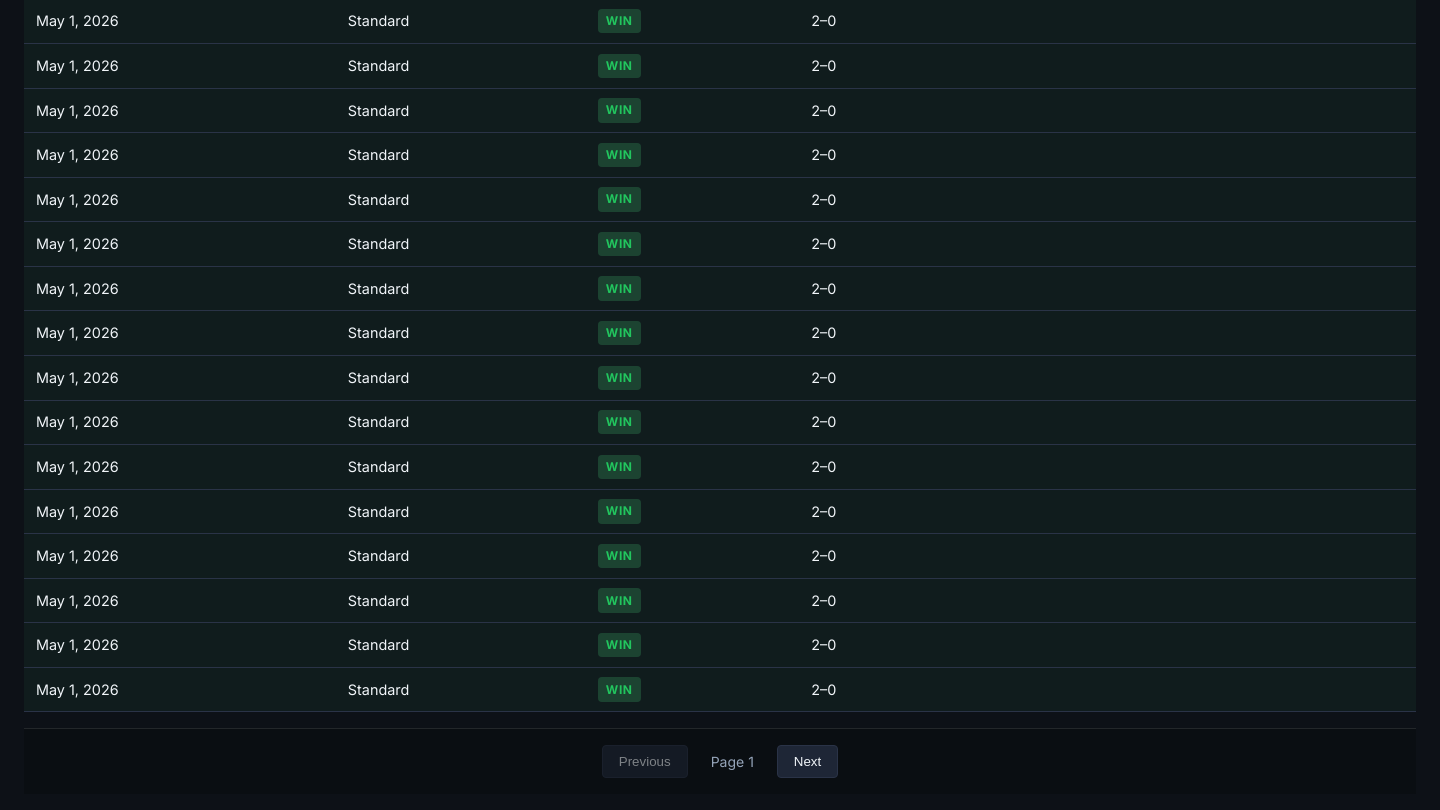
Test: BffMatchHistory › Cursor-based pagination › Previous button is enabled after navigating to page 2
The image size is (1440, 810).
(page scrolled)
Click the button "Next" at [808, 762], box [777, 745, 838, 778]
(page scrolled)
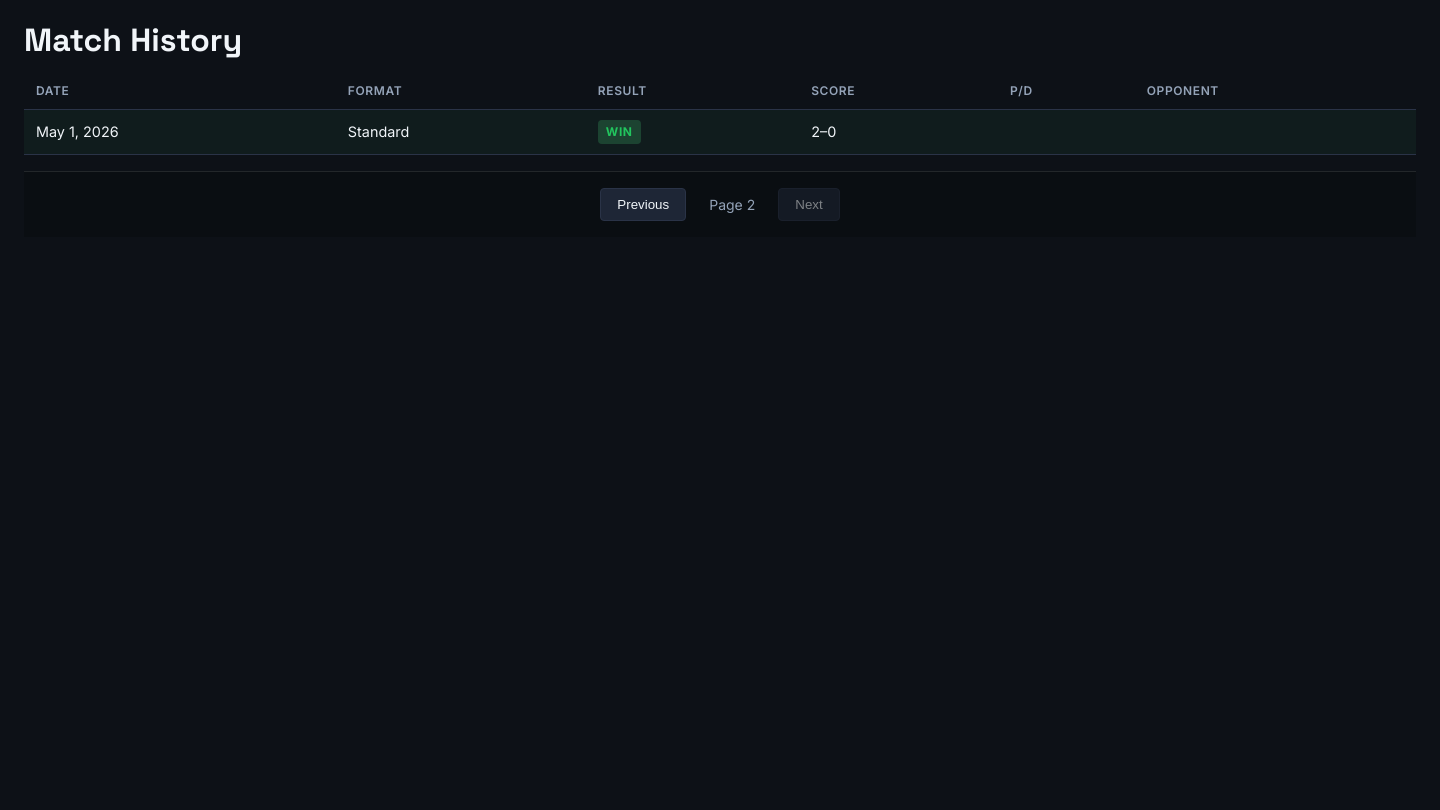
Expected: the button "Previous" is enabled, [600, 188, 686, 221]
